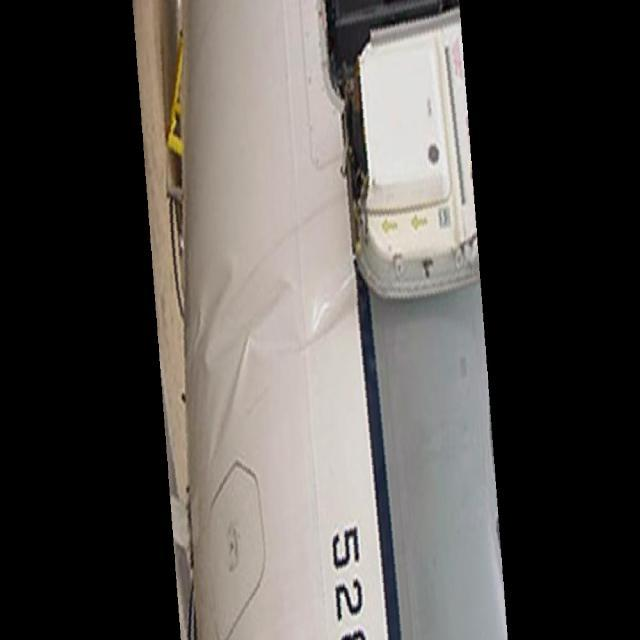dent: (186, 260, 361, 462)
